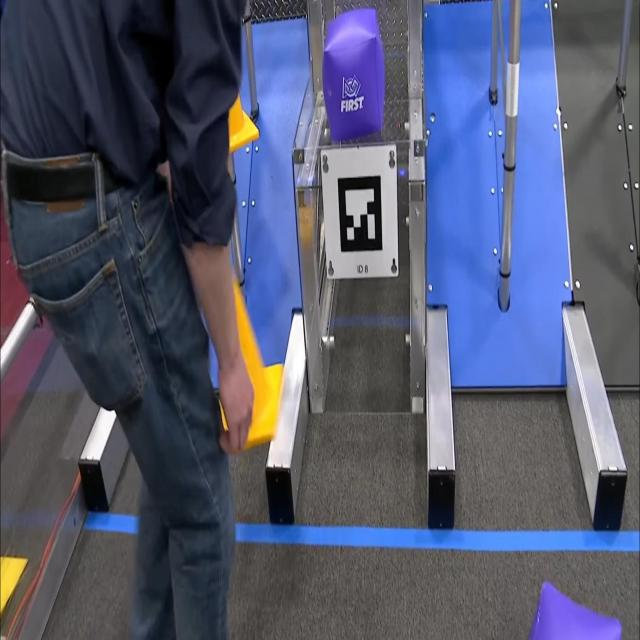frc_cone: (218, 274, 282, 446), (228, 91, 256, 154)
frc_cube: (324, 9, 387, 136), (516, 580, 627, 640)
